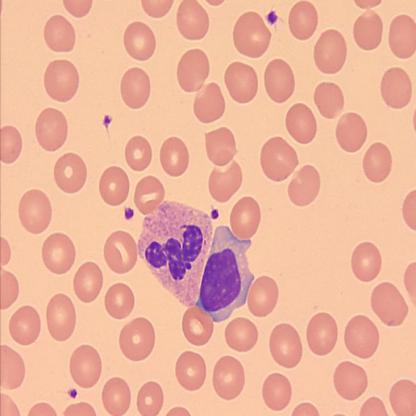Atypical lymphocyte: (139, 200, 256, 324)
